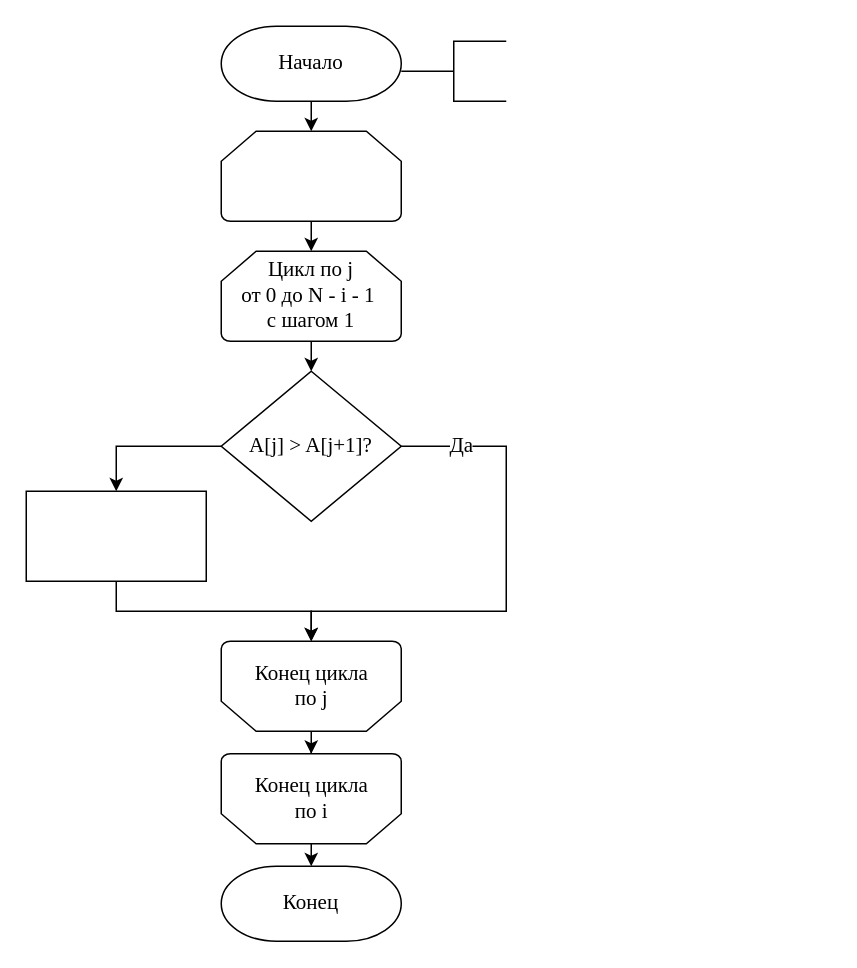
Some shapes in this 857 by 968 pixel diagram are drawn without their labels. The box of each missing label's shape, as (x1, y1, x2, y2) in pixels:
BubbleSort(A, N) A - массив для сортировки N - количество элементов в массиве: (400, 40, 506, 101)
Обменять значениями A[j] и A[j+1]: (25, 490, 206, 581)
Цикл по i от 0 до N-2 с шагом 1: (220, 130, 401, 221)
